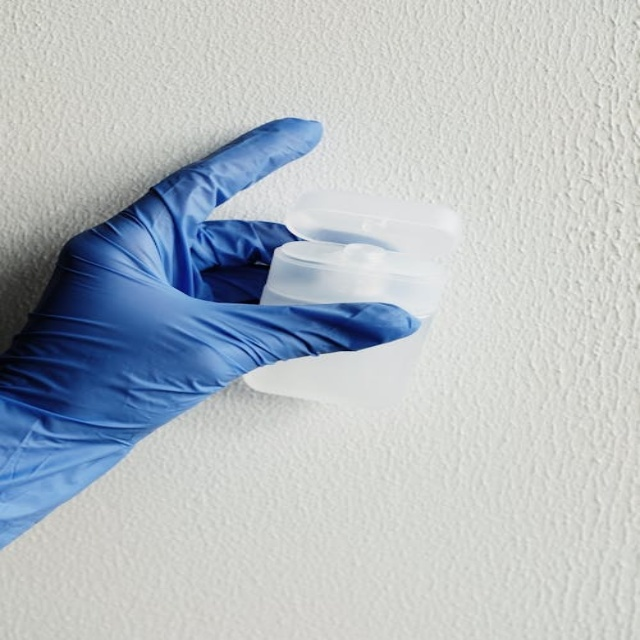Guantes: (6, 100, 426, 531)
